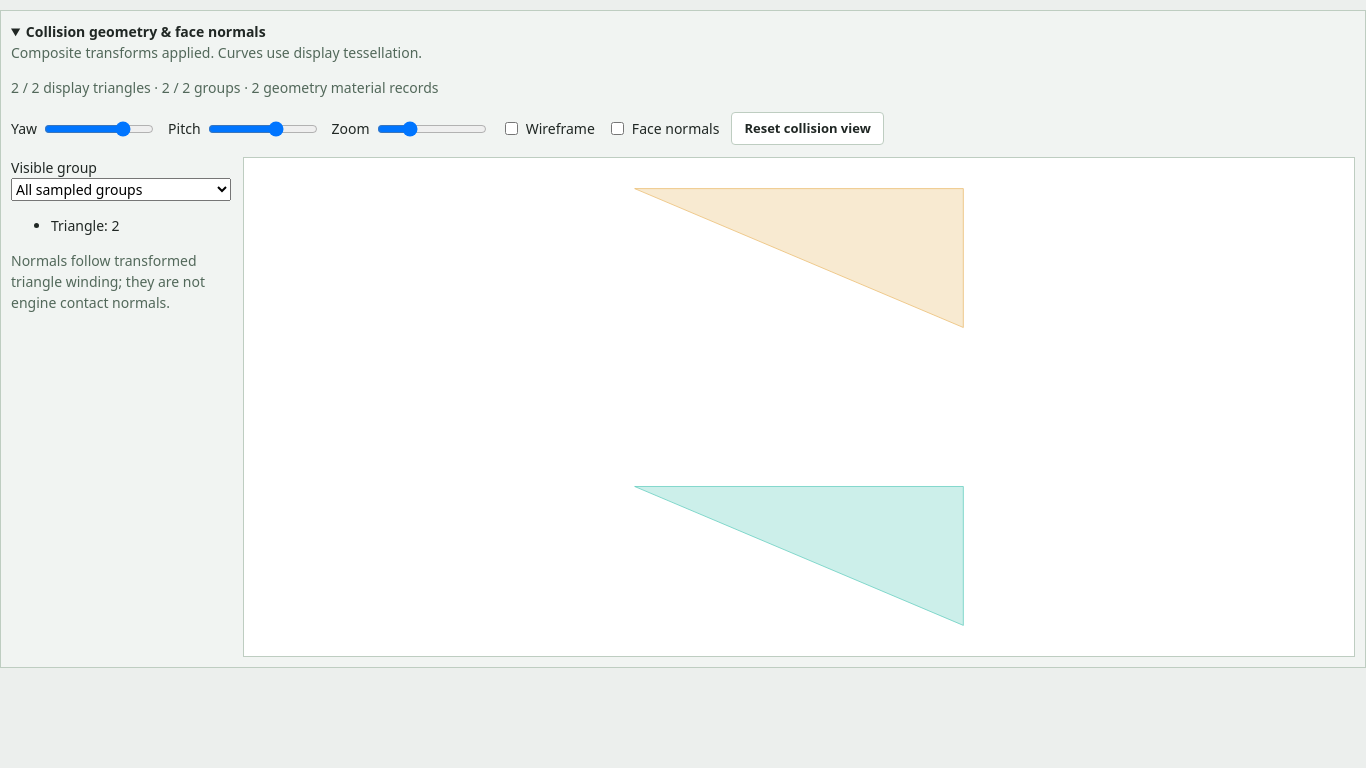
Test: renders, orbits, isolates materials and displays derived normals without backend actions
Earlier steps of the test are not shown.
Set the slider named "Collision pitch" to "60" at (294, 128), box [208,120,318,136]
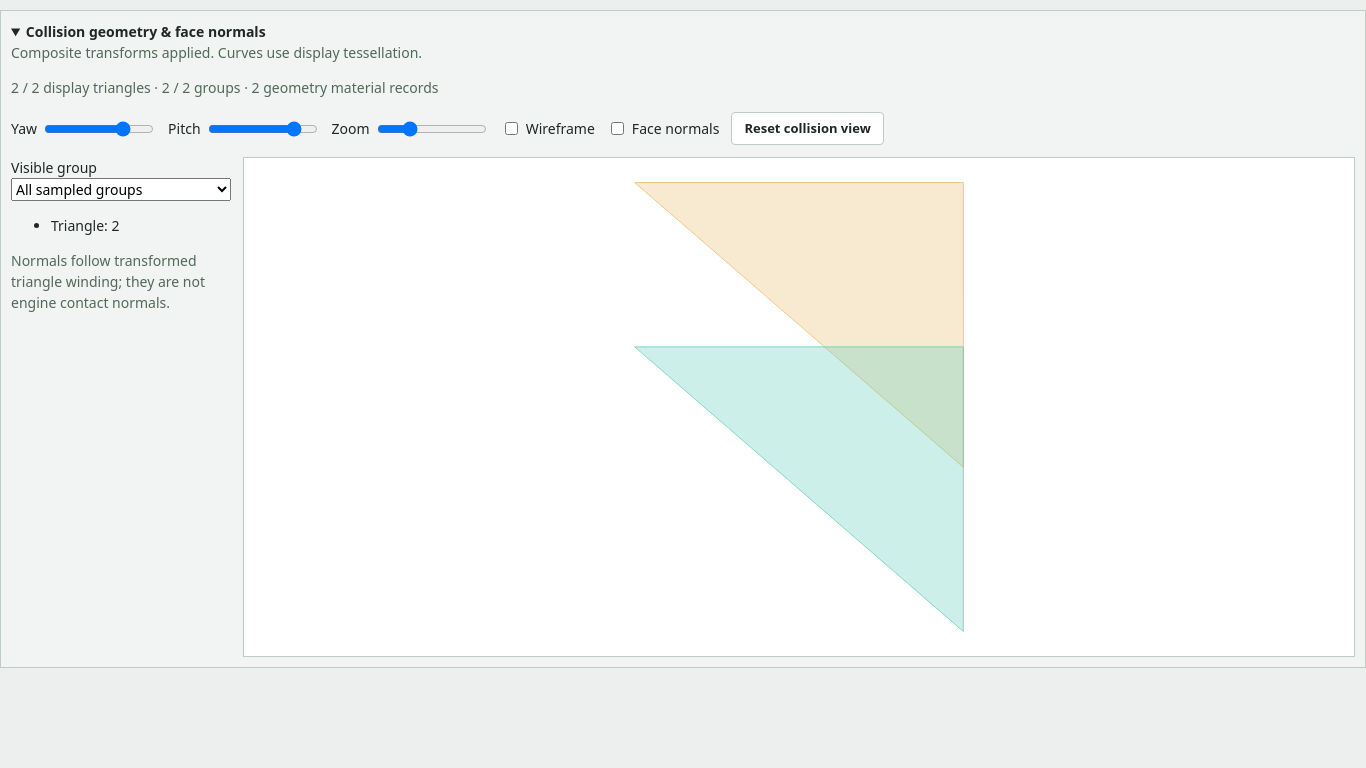
Set the slider named "Collision zoom" to "2" at (445, 128), box [377,120,487,136]
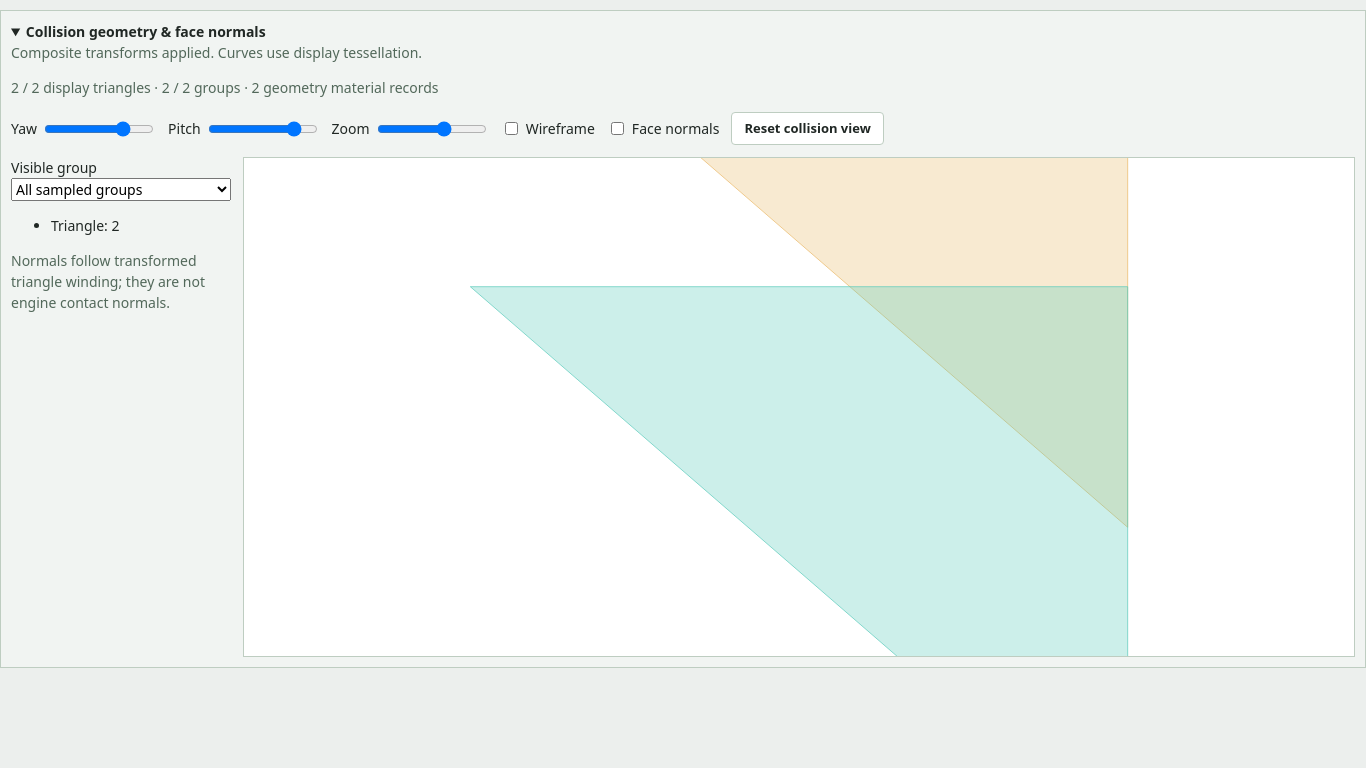
Click the checkbox labelled "Face normals".
click(617, 128)  # box [611,122,624,135]
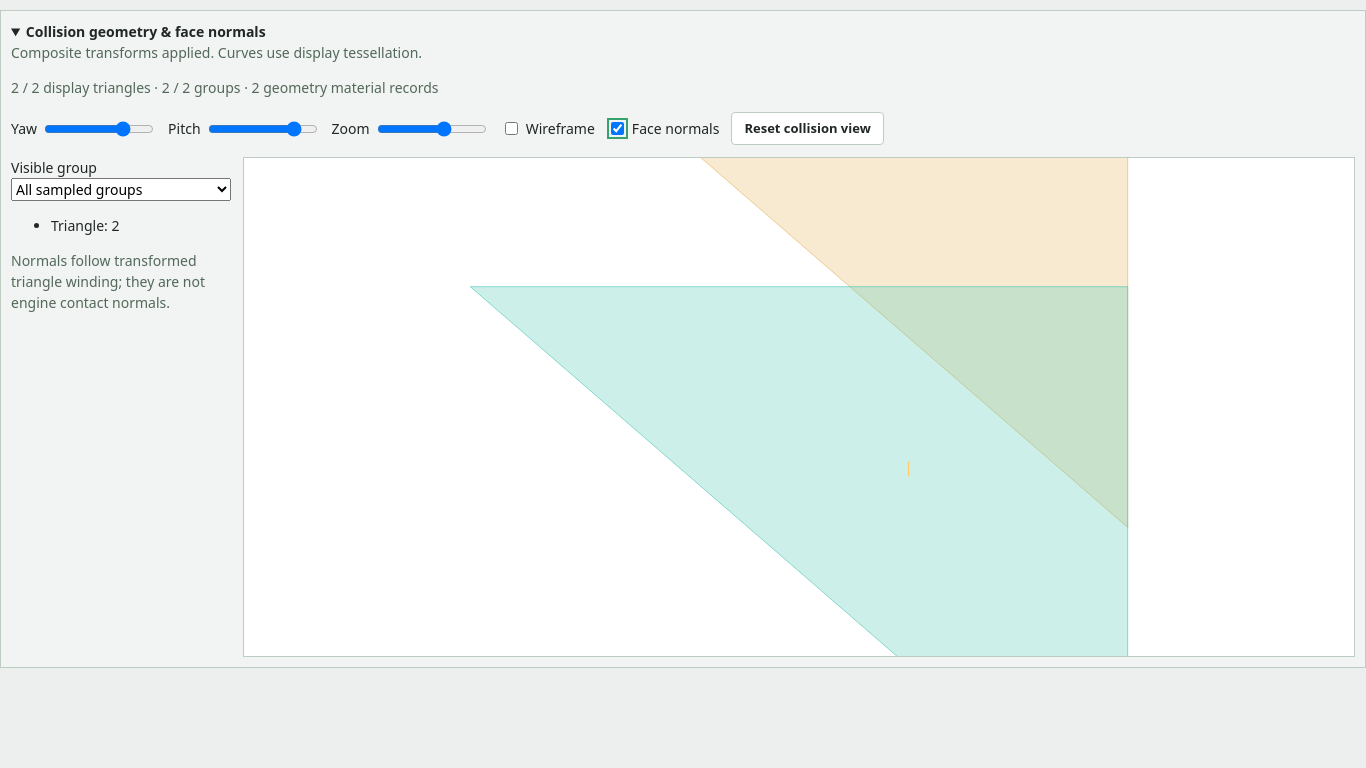
Click the checkbox labelled "Wireframe".
click(511, 128)  # box [505,122,518,135]
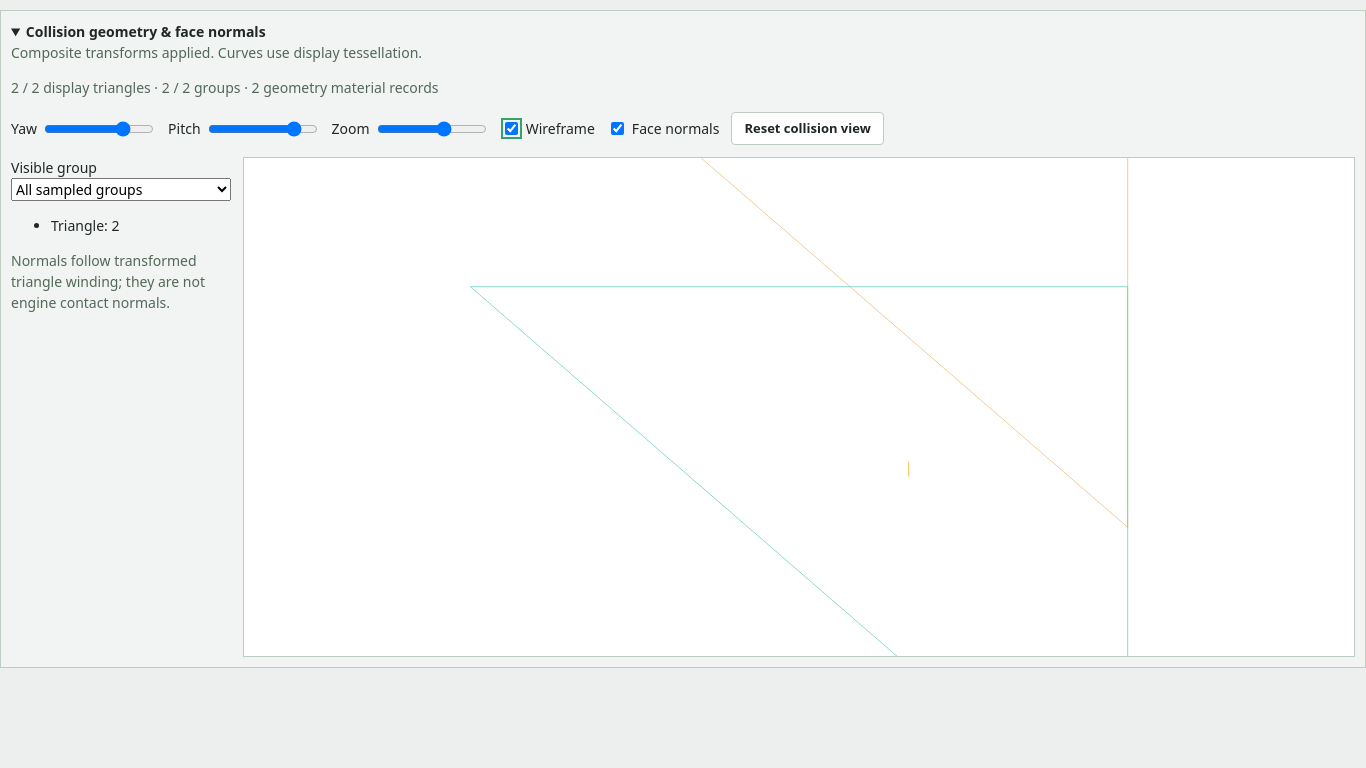
Select "1: Triangle mesh · material 1" in the dropdown named "Collision group" at (121, 190), box [11,178,231,201]
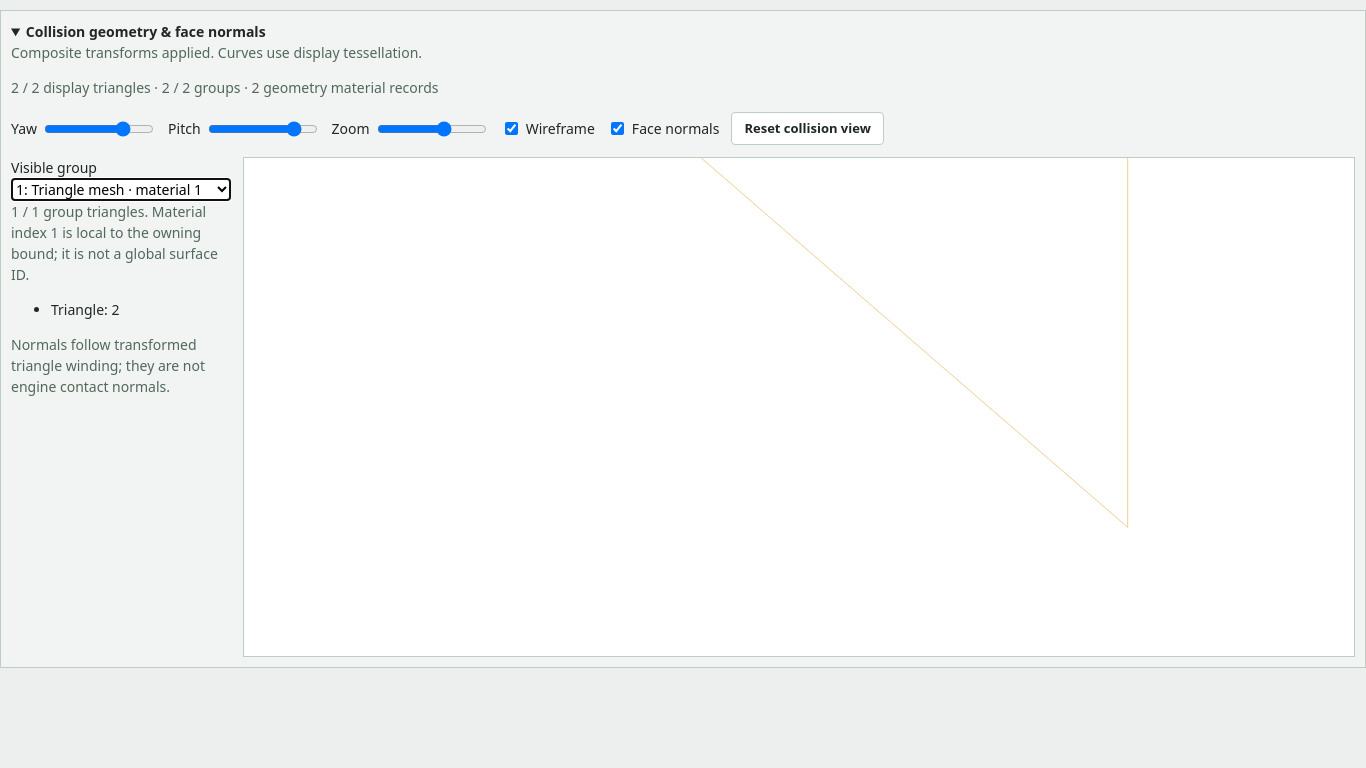
Now the text "Material index 1 is local" is shown, box [11,201,231,285]
Click the button "Reset collision view".
click(808, 128)  # box [731,112,884,145]
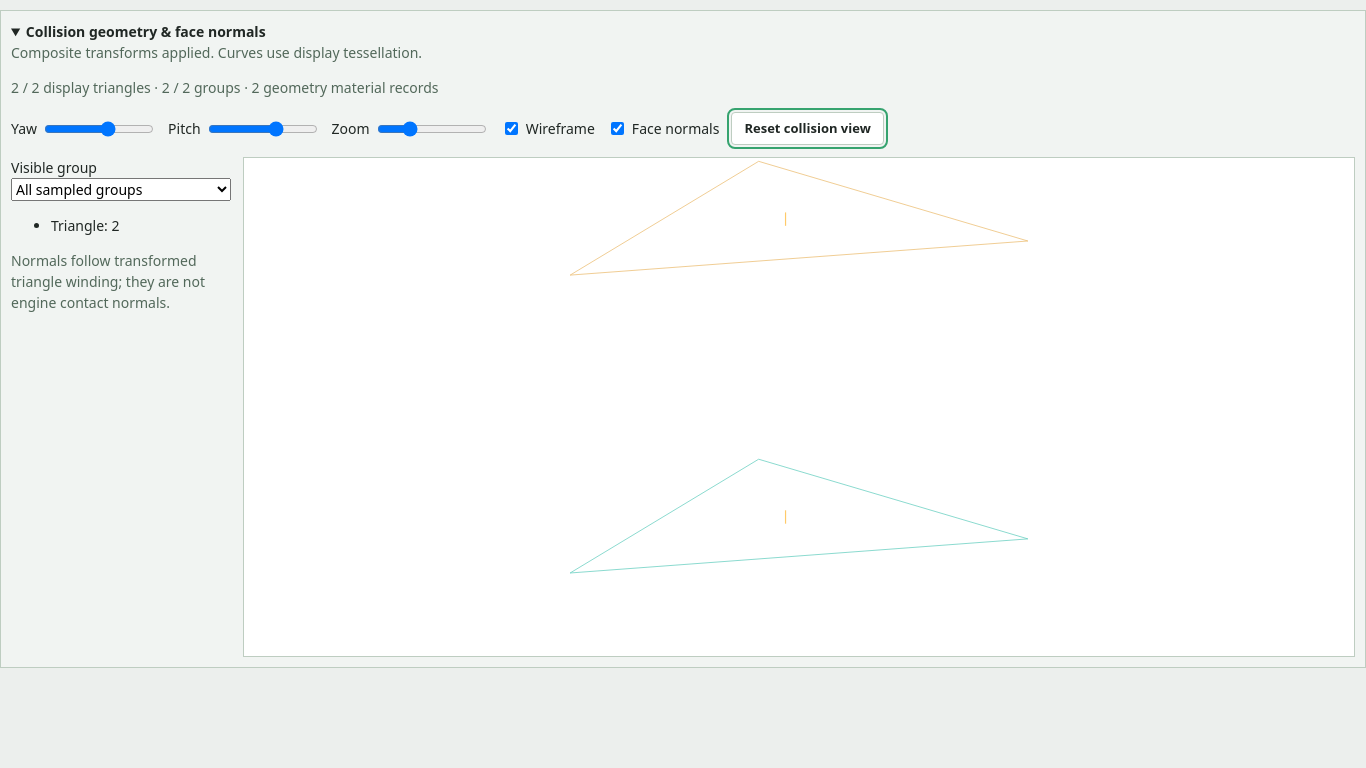
Now the slider named "Collision yaw" holds "35", box [44,120,154,136]
